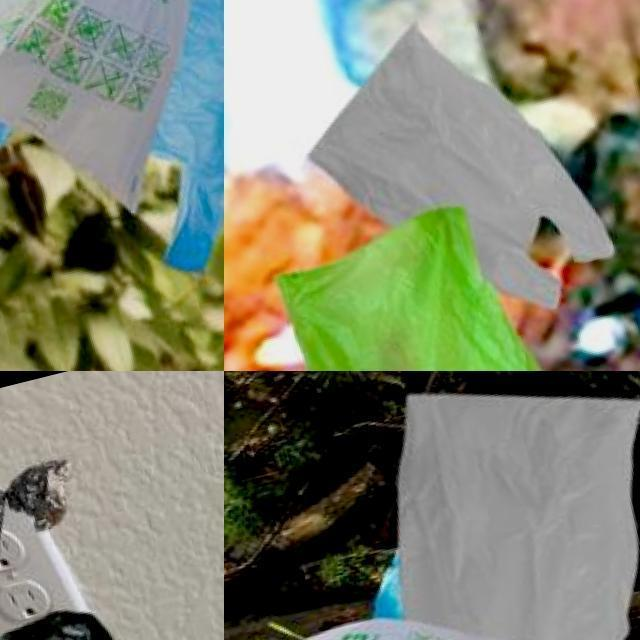waste: (289, 0, 622, 350), (365, 371, 640, 640), (0, 0, 224, 322), (266, 180, 598, 371), (0, 0, 224, 250), (292, 582, 557, 640), (0, 457, 85, 634), (0, 596, 154, 640)
